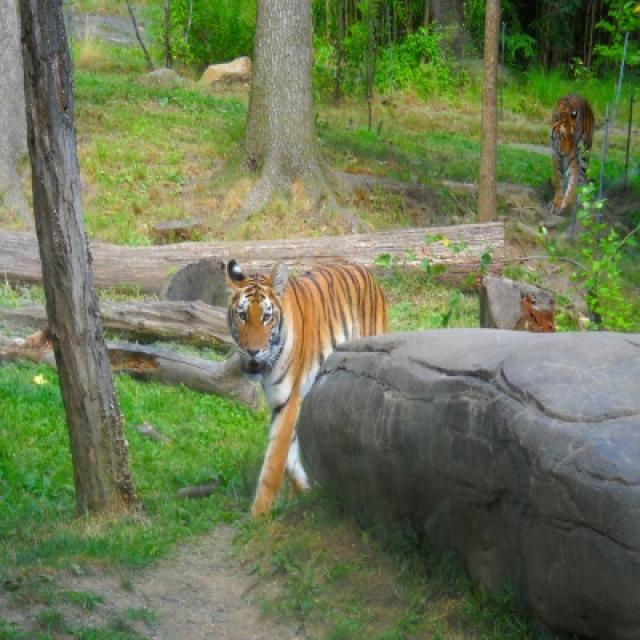Tiger: (227, 256, 387, 529)
